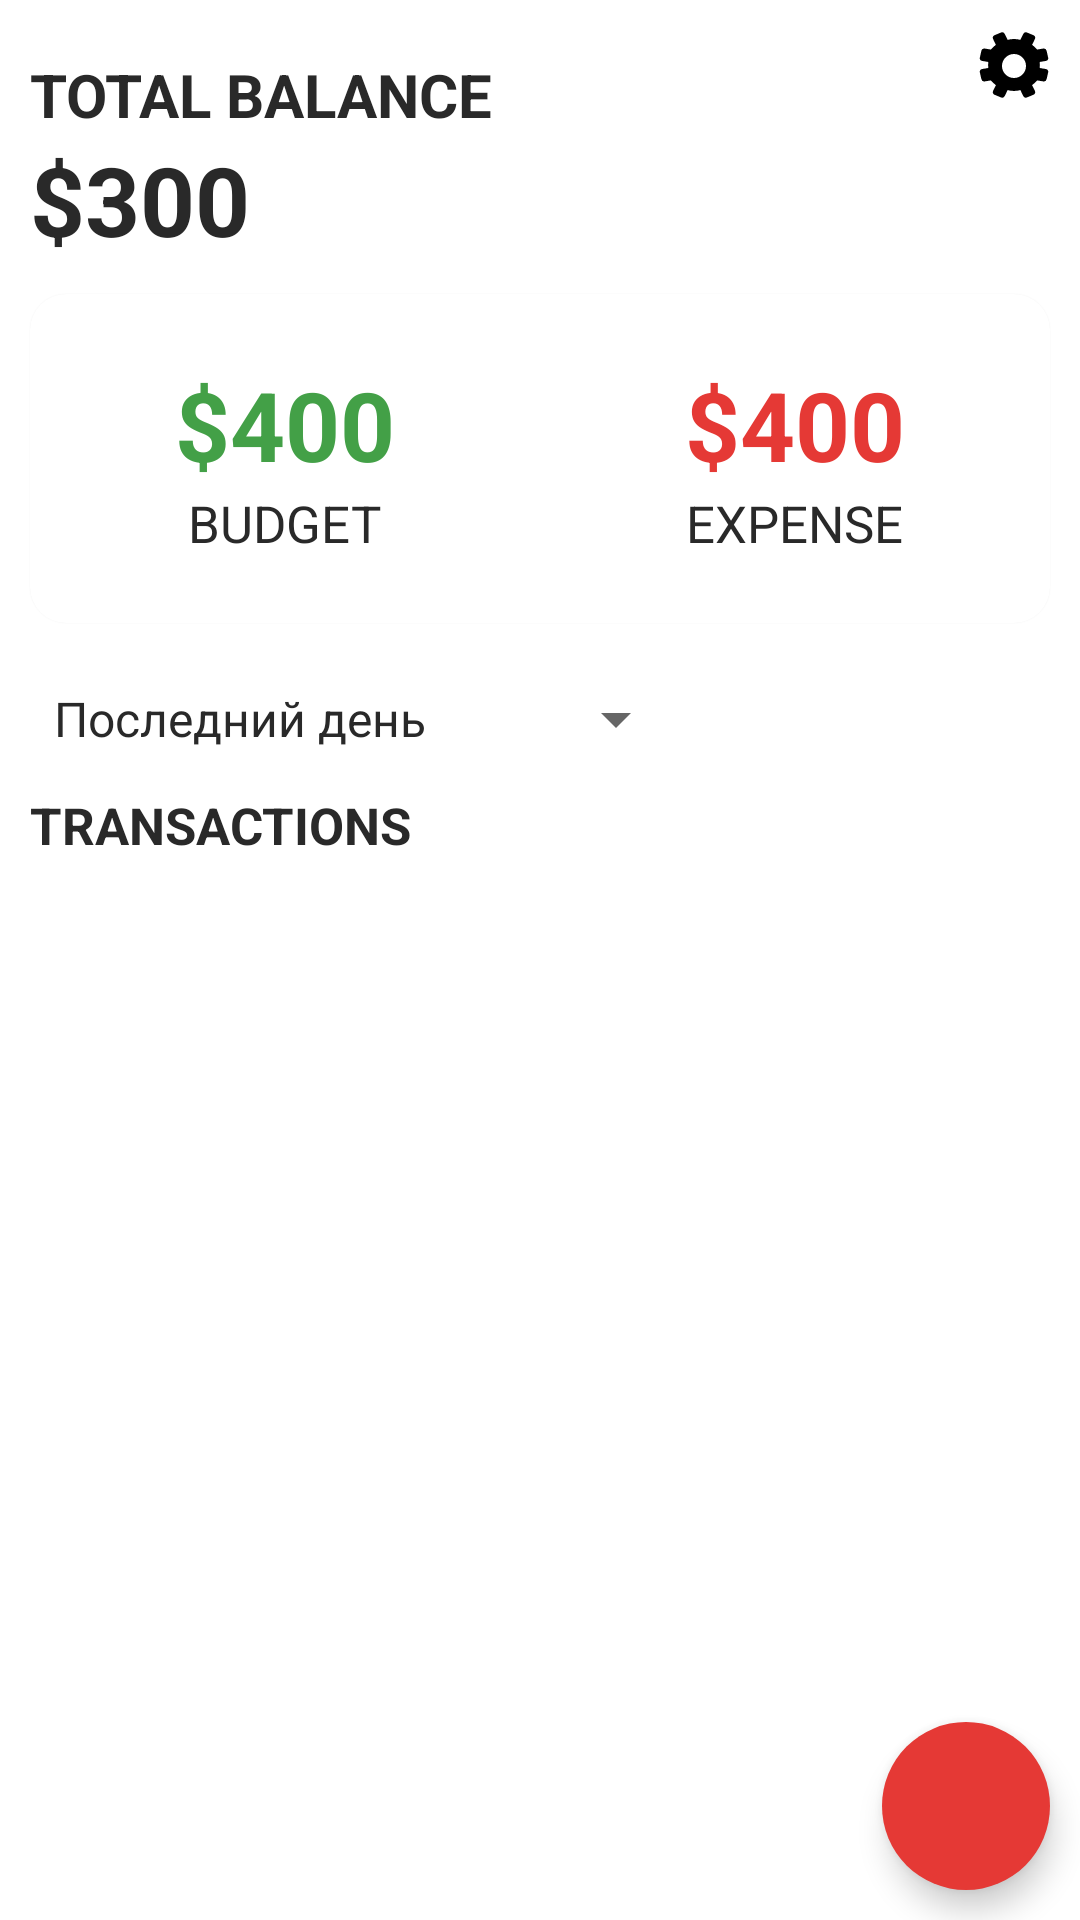

Icon click points for this 1080×1920 phone screenshot, format (x,y):
Settings: (1014,65)
